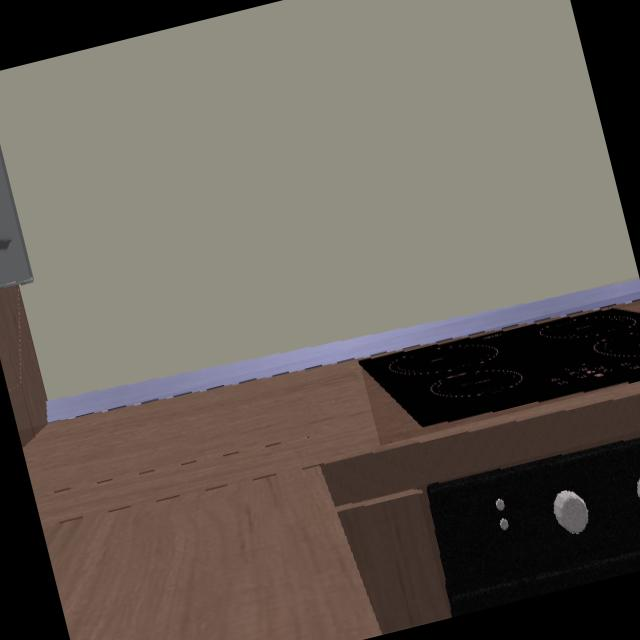countertop: (22, 360, 640, 640)
oven: (422, 435, 640, 618)
stove: (360, 308, 640, 429)
